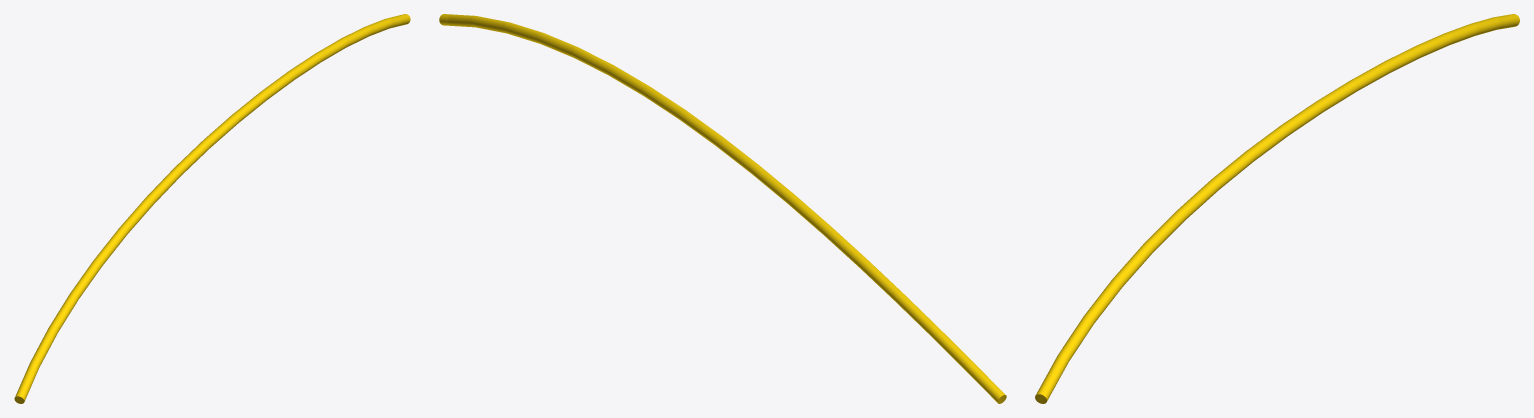
Rendered from Event_421364160_track_75.fbx.
3 views of the same model, side by side, from view 1: azimuth 90°, elevation 25°; view 2: azimuth 150°, elevation 25°; view 3: azimuth 270°, elevation 25° (orthographic). The views are drawn at different scales.
Parts seen in each view (by area): view 1: Model; view 2: Model; view 3: Model.
Boxes of the visible parts, <box> form: Model: <box>14,14,410,403</box>; Model: <box>439,14,1006,403</box>; Model: <box>1035,14,1519,403</box>.
Size of the model in its own units: 3.1 by 0.3923 by 1.49.
